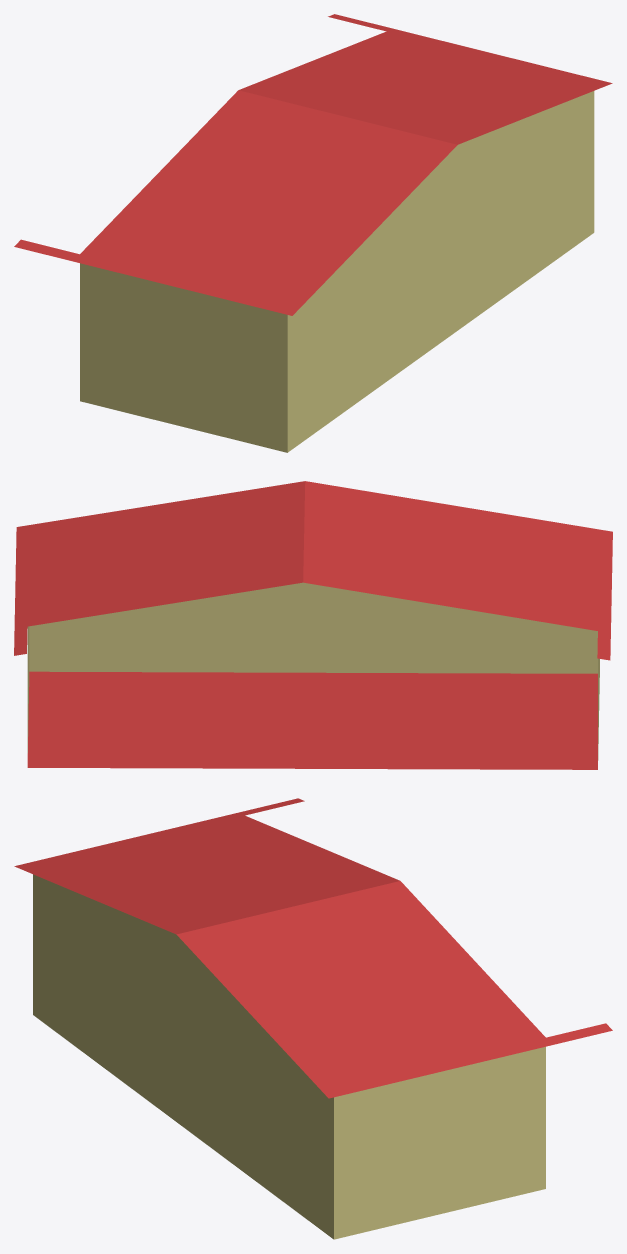
The picture shows the model from 3 angles, top to bottom: view 1: azimuth 30°, elevation 25°; view 2: azimuth 150°, elevation 25°; view 3: azimuth 270°, elevation 25°; orthographic projection. The views are drawn at different scales.
Bounding box in the file's own units: 38.68 × 32.32 × 11.88.
